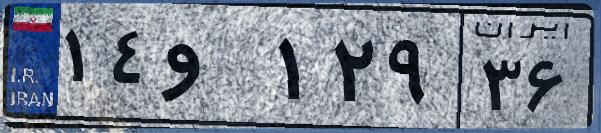1: (270, 28, 330, 110), (57, 26, 110, 100)
2: (330, 28, 385, 110)
3: (475, 38, 525, 113)
4: (110, 28, 158, 98)
6: (525, 38, 570, 115)
9: (385, 28, 445, 110)
و: (158, 20, 270, 120)
